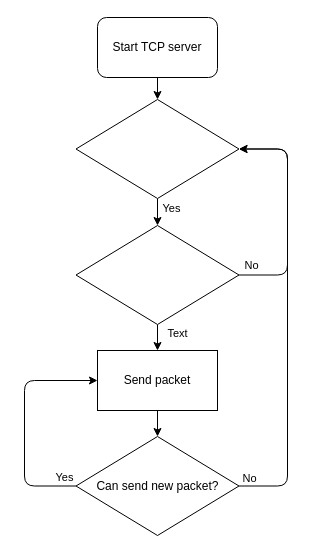
The diagram is 313 pixels wide and 553 high, and some of its shapes have lost their labels. Here are the shapes that lost their labels. From the top down, the centre of each, then its label:
pixel 157 148: Is client connected?
pixel 157 274: Receive request message?
